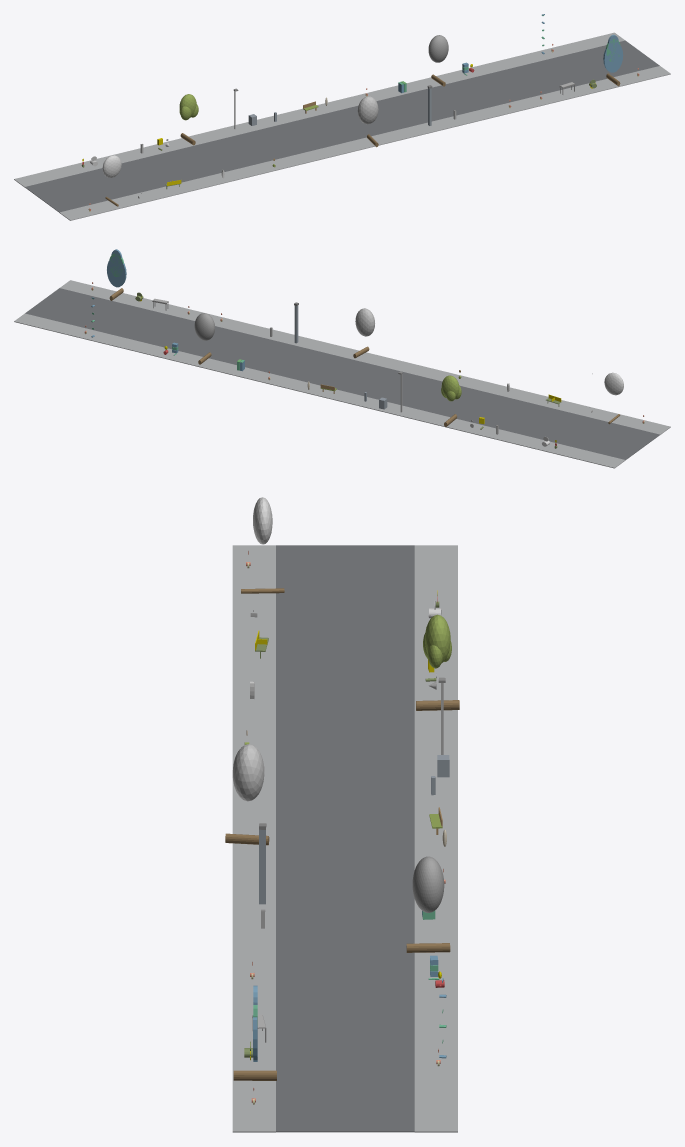
The picture shows the model from 3 angles, top to bottom: view 1: azimuth 30°, elevation 25°; view 2: azimuth 150°, elevation 25°; view 3: azimuth 270°, elevation 25°; orthographic projection. The views are drawn at different scales.
Parts seen in each view (by area): view 1: road_slab, sidewalk_left, sidewalk_right, inst_0016, inst_0014, inst_0015, inst_0013, inst_0012; view 2: road_slab, sidewalk_right, sidewalk_left, inst_0016, inst_0014, inst_0015, inst_0013, inst_0012; view 3: road_slab, sidewalk_left, sidewalk_right, inst_0015, inst_0014, inst_0013, inst_0012.
Boxes of the visible parts, bbox=[...] form: road_slab: bbox=[25, 40, 659, 212]; sidewalk_left: bbox=[59, 66, 670, 220]; sidewalk_right: bbox=[14, 32, 624, 187]; inst_0016: bbox=[603, 34, 623, 86]; inst_0014: bbox=[357, 96, 378, 147]; inst_0015: bbox=[428, 35, 448, 86]; inst_0013: bbox=[179, 94, 198, 145]; inst_0012: bbox=[102, 155, 121, 206]; road_slab: bbox=[25, 288, 659, 460]; sidewalk_right: bbox=[14, 313, 625, 468]; sidewalk_left: bbox=[60, 280, 670, 434]; inst_0016: bbox=[107, 249, 126, 300]; inst_0014: bbox=[353, 308, 374, 358]; inst_0015: bbox=[194, 313, 214, 364]; inst_0013: bbox=[441, 375, 461, 426]; inst_0012: bbox=[604, 372, 623, 424]; road_slab: bbox=[276, 545, 414, 1132]; sidewalk_left: bbox=[232, 545, 275, 1132]; sidewalk_right: bbox=[414, 545, 457, 1132]; inst_0015: bbox=[406, 856, 450, 952]; inst_0014: bbox=[225, 744, 269, 845]; inst_0013: bbox=[416, 614, 459, 710]; inst_0012: bbox=[241, 497, 284, 593].
Bounding box in the file's own units: 80 × 6.08 × 13.51.
